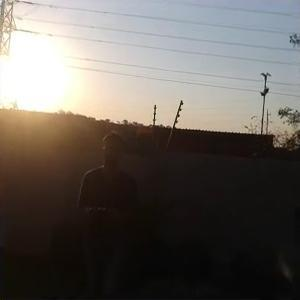follow: (78, 124, 147, 299)
